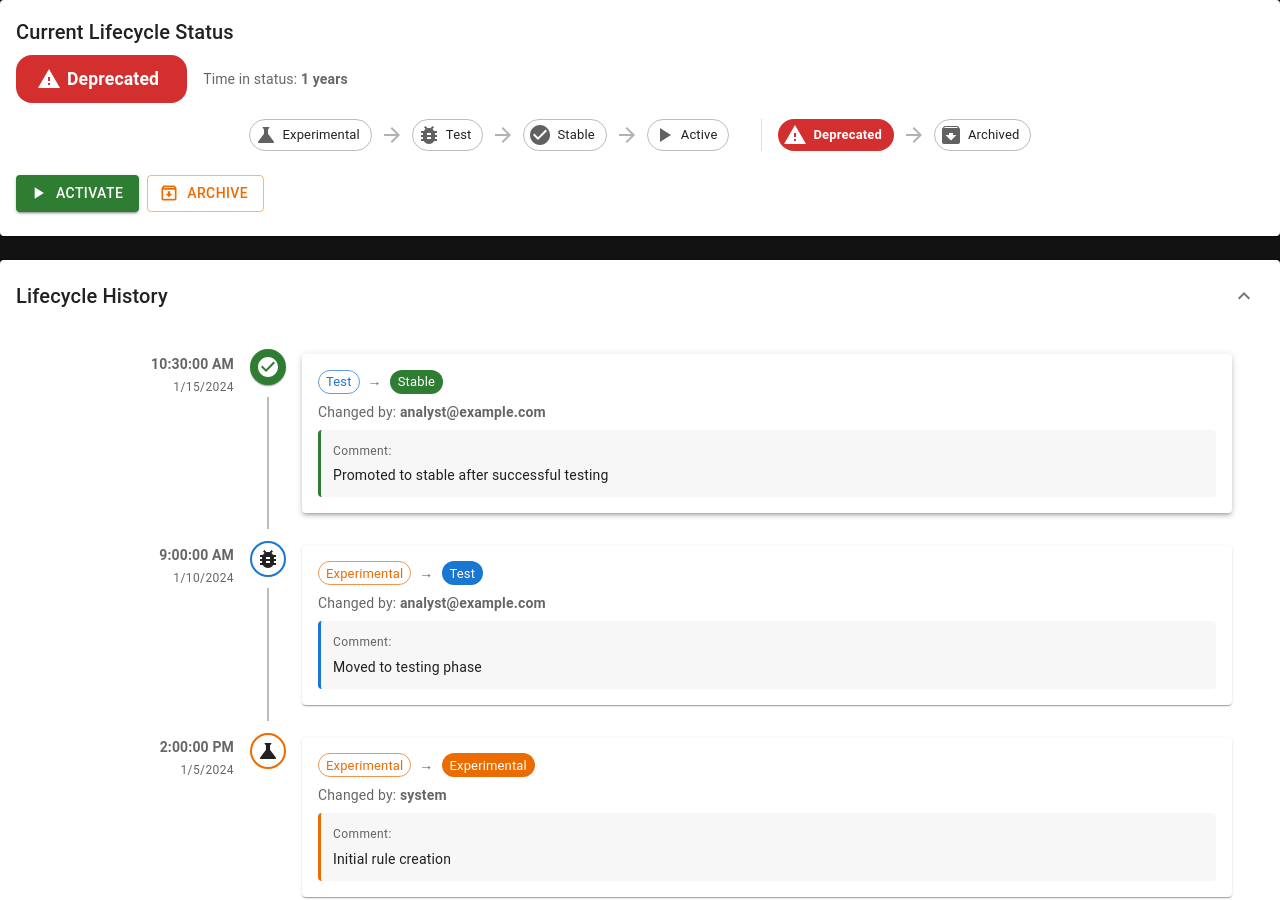
Test: RuleLifecyclePanel › Archive Dialog › opens archive dialog when archive button clicked
Click the button with aria-label "archive rule" at (206, 193), box [147,175,264,212]
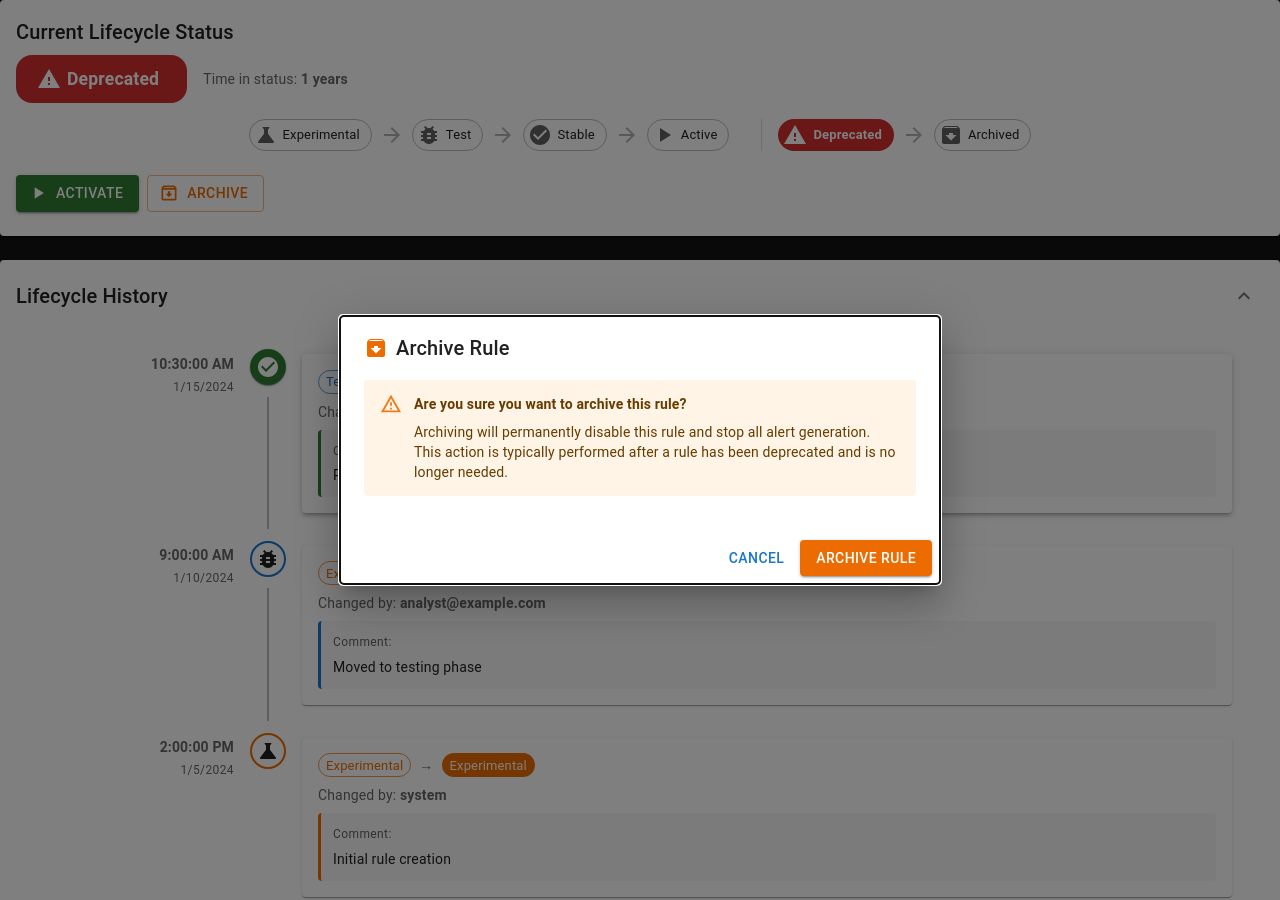
Result: the dialog "Archive Rule" is shown at [340,316,940,584]
